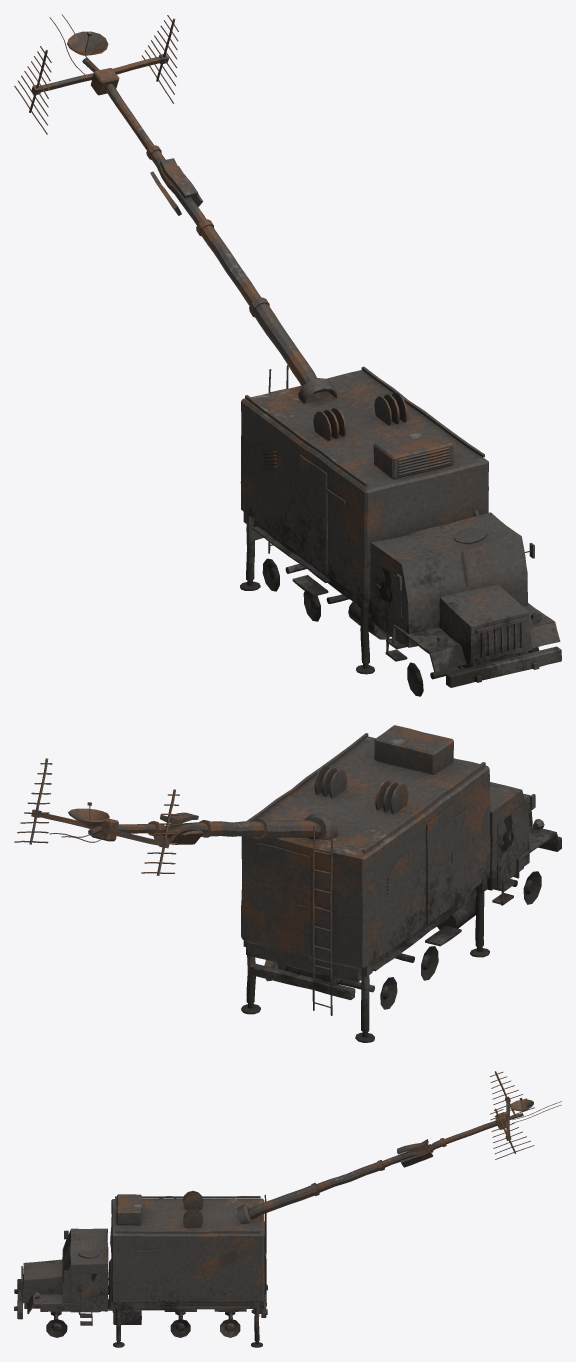
File: Wreck_Jammer.fbx
3 views of the same model, one above another, from view 1: azimuth 30°, elevation 25°; view 2: azimuth 150°, elevation 25°; view 3: azimuth 270°, elevation 25° (orthographic). The views are drawn at different scales.
Parts seen in each view (by area): view 1: Wreck_Jammer_Mesh; view 2: Wreck_Jammer_Mesh; view 3: Wreck_Jammer_Mesh.
Part boxes in pixels (x1,y1,x2,y2): Wreck_Jammer_Mesh: (14,14,561,696); Wreck_Jammer_Mesh: (14,725,561,1042); Wreck_Jammer_Mesh: (14,1071,561,1347).
Size of the model in its own units: 2.79 by 7.43 by 15.45.
